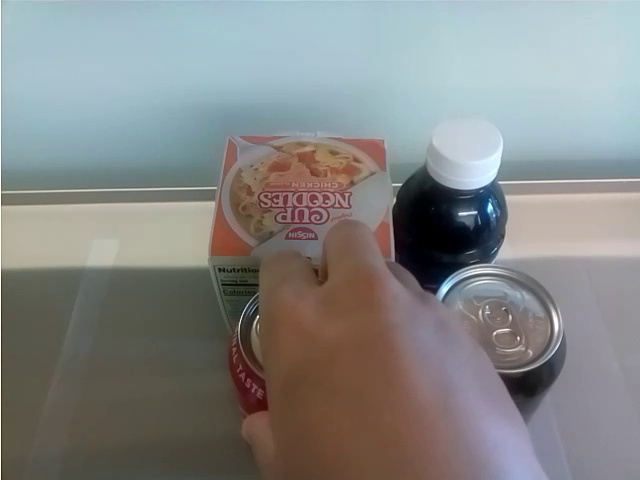cocacola-zero: (436, 268, 570, 382)
hand: (165, 225, 542, 480)
juice: (391, 114, 526, 261)
noodles: (196, 136, 396, 265)
